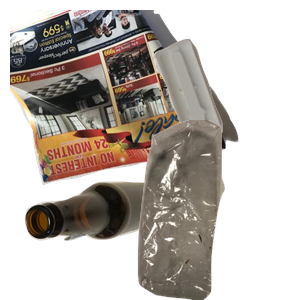glass: (23, 179, 183, 300)
paper: (10, 10, 241, 188)
plastic: (150, 36, 300, 173)
trash: (114, 120, 300, 300)
